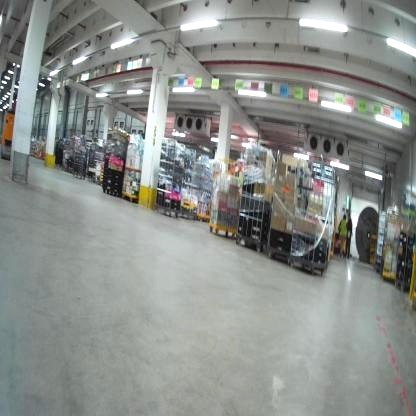pallets: (124, 194, 145, 207)
